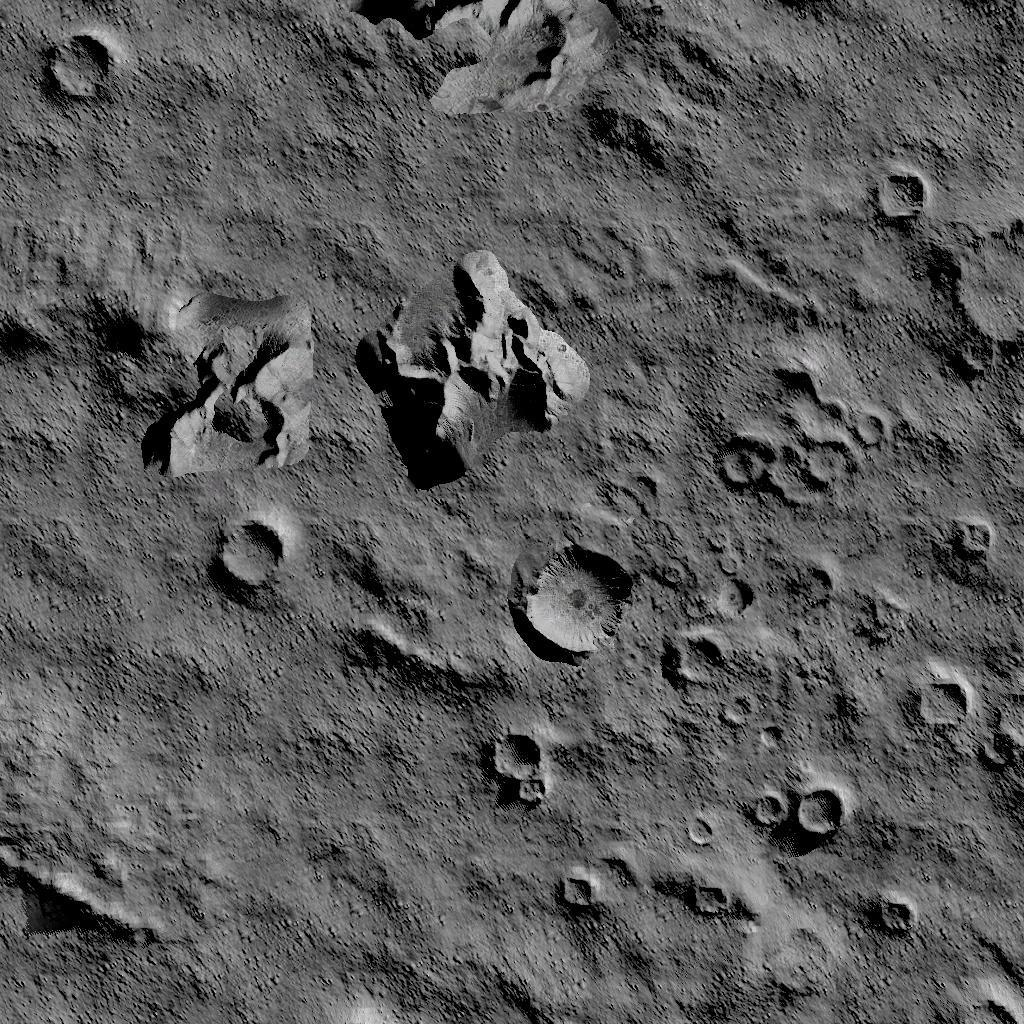Boulders: (349, 244, 586, 482), (134, 281, 310, 476), (384, 0, 607, 108)
Crater: (712, 354, 880, 496), (519, 540, 637, 657), (947, 196, 1024, 345), (210, 515, 290, 601), (34, 30, 116, 100), (747, 784, 845, 833), (941, 967, 1024, 1024), (488, 730, 552, 802), (974, 670, 1024, 754), (870, 161, 934, 219), (908, 667, 966, 721), (664, 631, 725, 681), (944, 514, 996, 560), (712, 574, 758, 615), (554, 866, 597, 908), (872, 892, 917, 930), (690, 882, 734, 918), (682, 804, 716, 840), (725, 690, 751, 722)
Plan surface: (211, 652, 479, 954), (0, 488, 197, 807), (121, 0, 373, 192)
